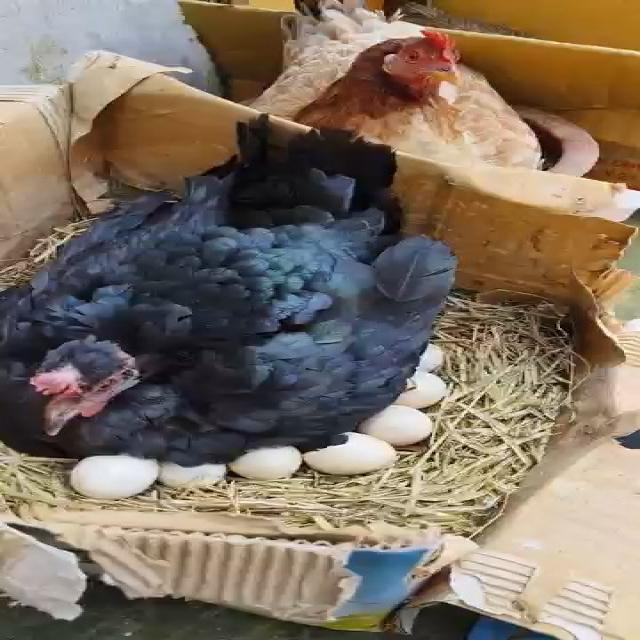crouch chicken: (0, 116, 533, 484)
